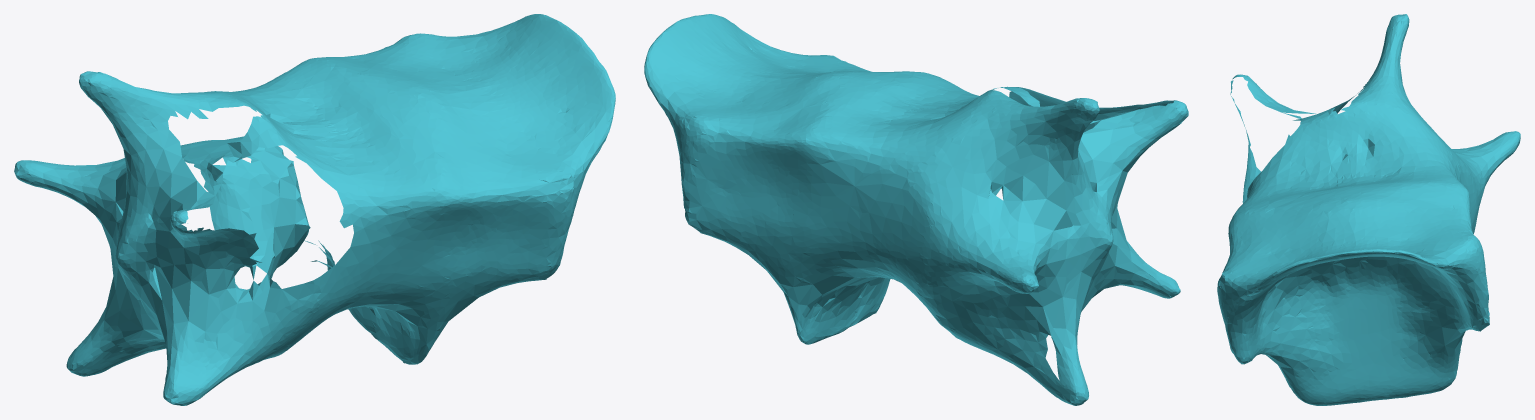
3 views of the same model, side by side, from view 1: azimuth 30°, elevation 25°; view 2: azimuth 150°, elevation 25°; view 3: azimuth 270°, elevation 25° (orthographic). The views are drawn at different scales.
Parts seen in each view (by area): view 1: Renderer Node; view 2: Renderer Node; view 3: Renderer Node.
Part boxes in pixels (x1=…): Renderer Node: x1=14, y1=14, x2=615, y2=405; Renderer Node: x1=644, y1=14, x2=1188, y2=405; Renderer Node: x1=1217, y1=14, x2=1520, y2=405.
Size of the model in its own units: 0.7187 by 0.4695 by 0.4659.
Materials: 1 (1 with a texture image).
